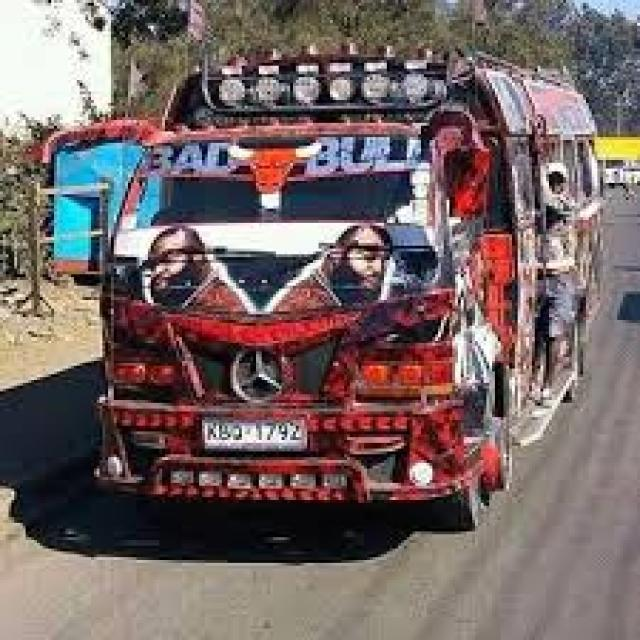bus: (10, 2, 633, 558)
